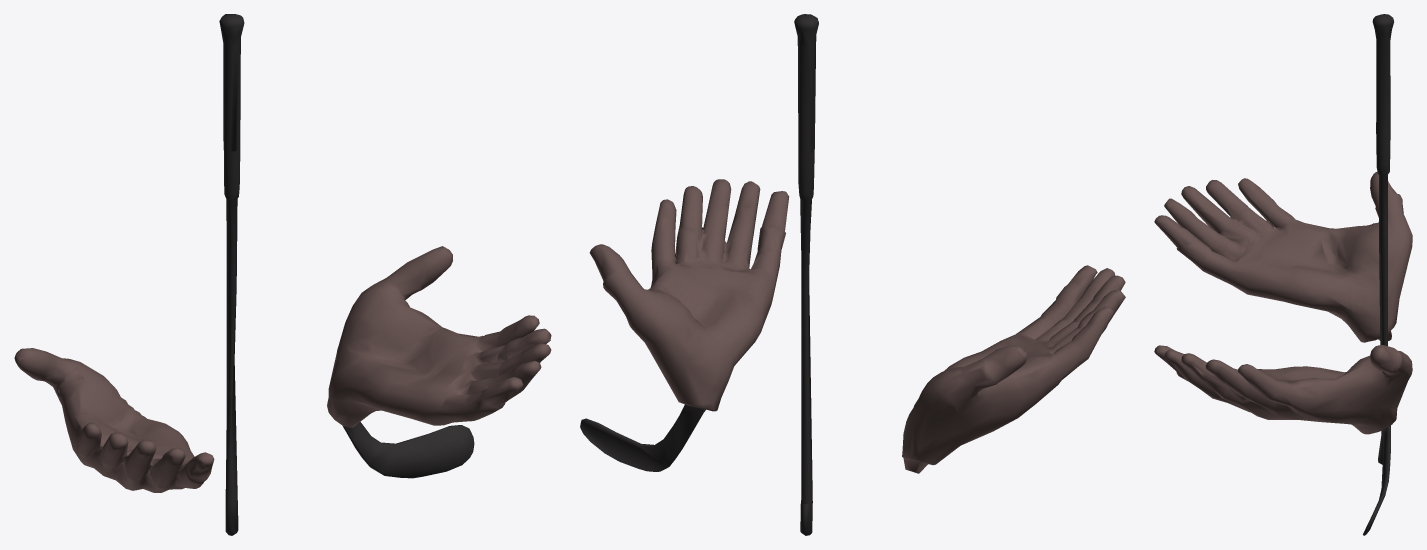
The picture shows the model from 3 angles, left to right: view 1: azimuth 30°, elevation 25°; view 2: azimuth 150°, elevation 25°; view 3: azimuth 270°, elevation 25°; orthographic projection. The views are drawn at different scales.
Parts seen in each view (by area): view 1: Mesh_0; view 2: Mesh_0; view 3: Mesh_0.
Boxes of the visible parts, <box> form: Mesh_0: <box>14,14,551,535</box>; Mesh_0: <box>580,14,1125,535</box>; Mesh_0: <box>1154,14,1412,535</box>.
Bounding box in the file's own units: 92.73 × 100 × 52.22.
Materials: 1 (1 with a texture image).
